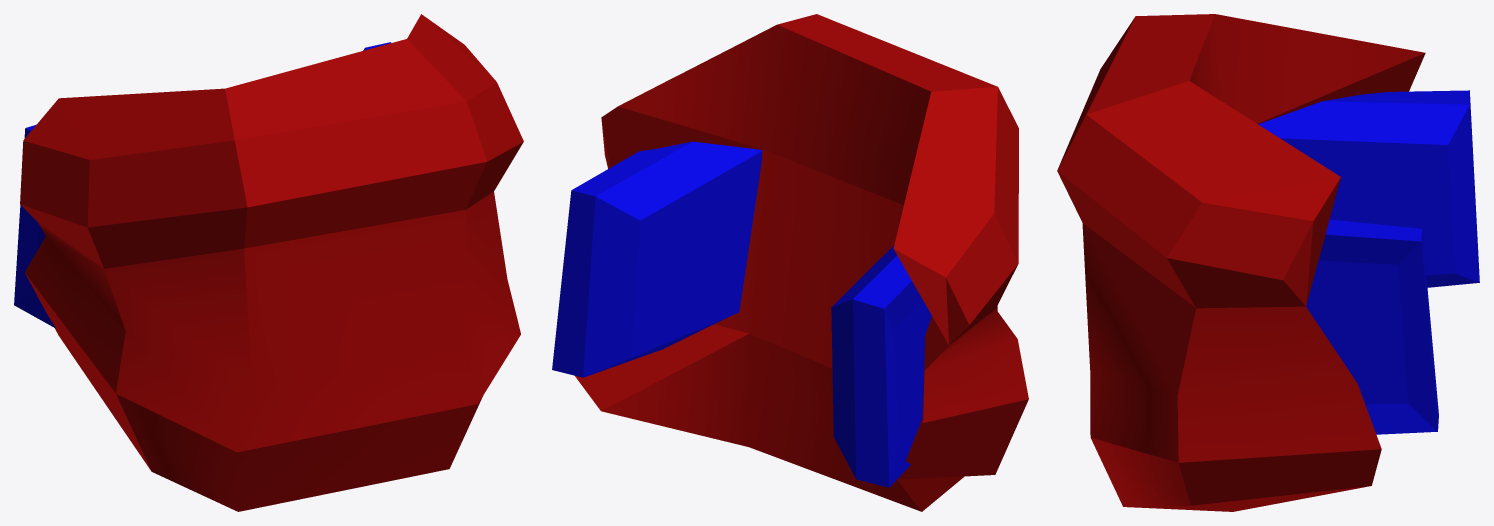
The model's file is Chr_KneeAttachRight_Static_03.fbx.
3 views of the same model, side by side, from view 1: azimuth 30°, elevation 25°; view 2: azimuth 150°, elevation 25°; view 3: azimuth 270°, elevation 25° (orthographic). The views are drawn at different scales.
Visible parts, largest first — view 1: Chr_KneeAttachRight_03; view 2: Chr_KneeAttachRight_03; view 3: Chr_KneeAttachRight_03.
Boxes of the visible parts, x1=… form: Chr_KneeAttachRight_03: x1=14, y1=14, x2=523, y2=511; Chr_KneeAttachRight_03: x1=552, y1=14, x2=1028, y2=511; Chr_KneeAttachRight_03: x1=1057, y1=14, x2=1479, y2=511.
Size of the model in its own units: 17.86 by 17.31 by 15.02.
